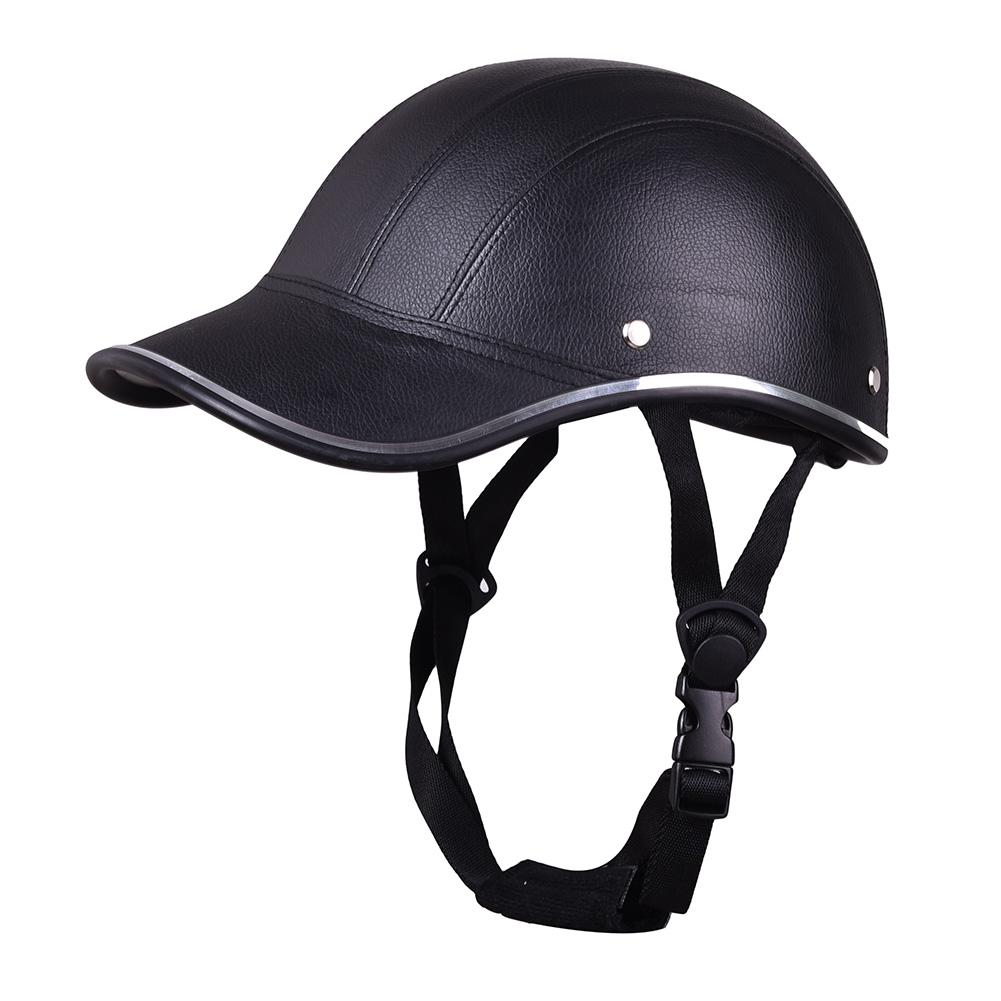helmet: (85, 59, 890, 466)
